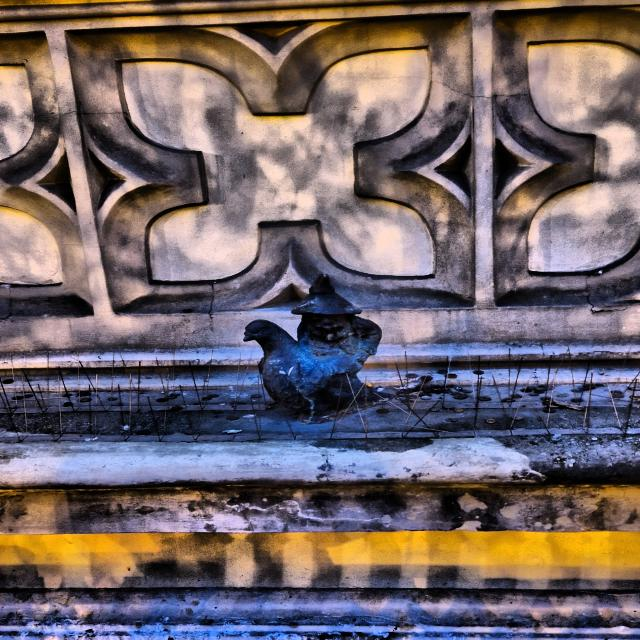Golebnik: (244, 274, 388, 419)
